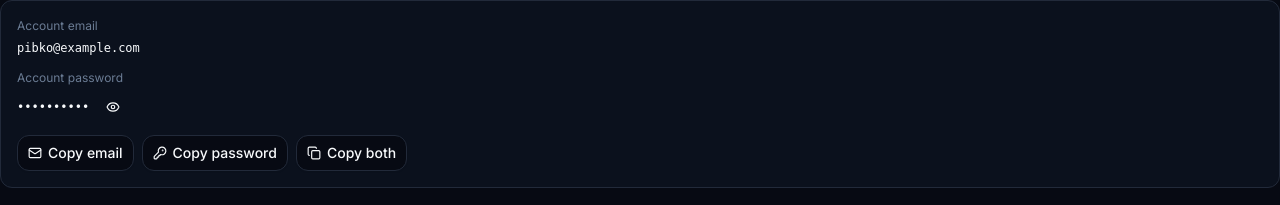
Scenario: SelectedAccountCredentials › shows the password on request and hides it again
The image size is (1280, 205).
Click the button named "show password": (113, 107) 97,91 -> 129,123
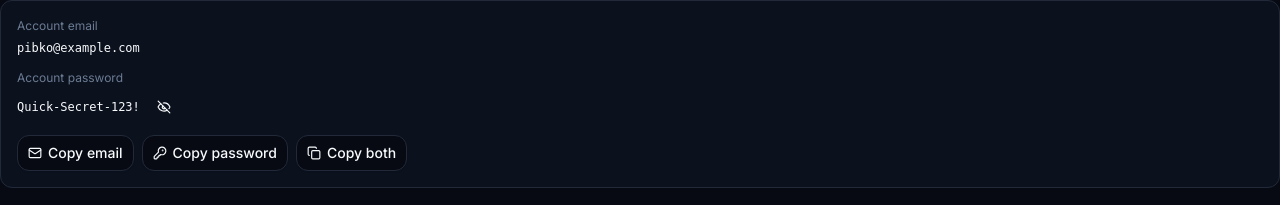
Now the text "Quick-Secret-123!" is shown, box 17,98 -> 140,116
Click the button named "hide password": (164, 107) 148,91 -> 180,123
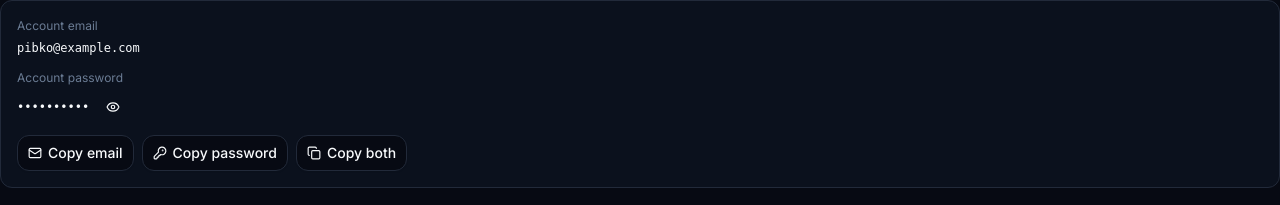
Now the text "Quick-Secret-123!" is gone
